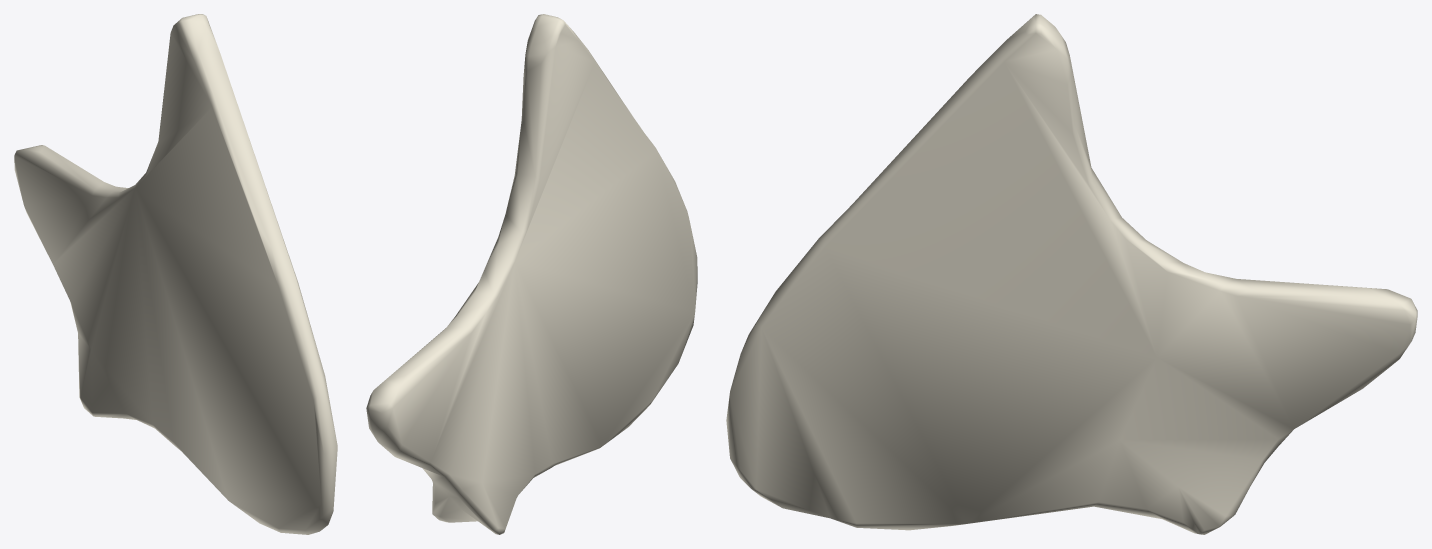
3 renders of one model, left to right at view 1: azimuth 30°, elevation 25°; view 2: azimuth 150°, elevation 25°; view 3: azimuth 270°, elevation 25°, orthographic. The views are drawn at different scales.
Visible parts, largest first — view 1: ZA_eb68f00f07b7f1e4; view 2: ZA_eb68f00f07b7f1e4; view 3: ZA_eb68f00f07b7f1e4.
Part boxes in pixels (x1=…): ZA_eb68f00f07b7f1e4: x1=14, y1=14, x2=337, y2=534; ZA_eb68f00f07b7f1e4: x1=366, y1=14, x2=697, y2=534; ZA_eb68f00f07b7f1e4: x1=726, y1=14, x2=1417, y2=534.
Size of the model in its own units: 0.00492 by 0.0344 by 0.0423.
